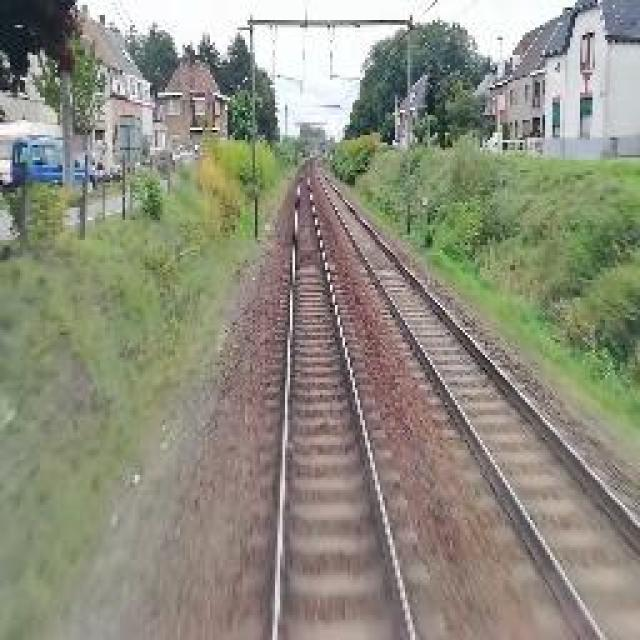rail: (247, 165, 462, 640)
